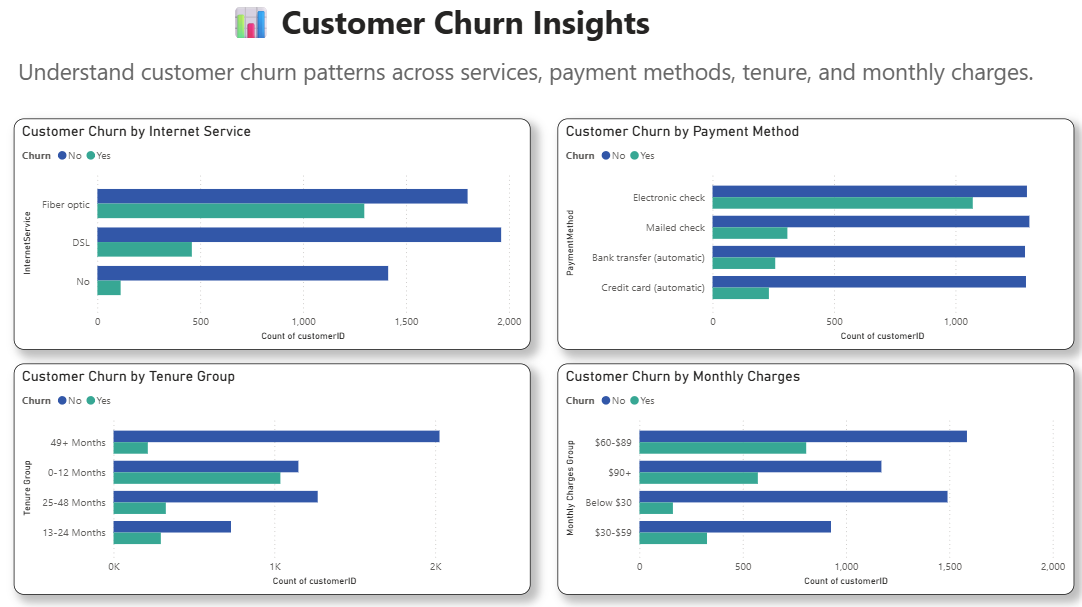

The dashboard page shown, as its layout file describes it:
{"tool":"powerbi","page":{"name":"Customer Churn Insights","canvas":[1280,720],"ordinal":1},"visuals":[{"type":"textbox","box":[264,0,552,72],"z":0},{"type":"textbox","box":[16,64,1216,80],"z":1000},{"type":"clusteredBarChart","title":"Customer Churn by Internet Service","fields":{"Category":["Customers.InternetService"],"Y":["CountNonNull(Customers.customerID)"],"Series":["Customers.Churn"]},"box":[16,144,608,272],"z":2000},{"type":"clusteredBarChart","title":"Customer Churn by Payment Method","fields":{"Category":["Customers.PaymentMethod"],"Y":["CountNonNull(Customers.customerID)"],"Series":["Customers.Churn"]},"box":[656,144,608,272],"z":3000},{"type":"clusteredBarChart","title":"Customer Churn by Tenure Group","fields":{"Category":["Customers.Tenure Group"],"Series":["Customers.Churn"],"Y":["CountNonNull(Customers.customerID)"]},"box":[16,432,608,272],"z":4000},{"type":"clusteredBarChart","title":"Customer Churn by Monthly Charges","fields":{"Category":["Customers.Monthly Charges Group"],"Series":["Customers.Churn"],"Y":["CountNonNull(Customers.customerID)"]},"box":[656,432,608,272],"z":5000}]}

Visuals, with their boxes in screenshot pixels (x1, y1, x2, y2), scaled from the page's 1280x720 canvas onto the 1082x607 screenshot:
textbox: 223/0/690/61
textbox: 14/54/1041/121
"Customer Churn by Internet Service" clusteredBarChart: 14/121/527/351
"Customer Churn by Payment Method" clusteredBarChart: 555/121/1068/351
"Customer Churn by Tenure Group" clusteredBarChart: 14/364/527/594
"Customer Churn by Monthly Charges" clusteredBarChart: 555/364/1068/594
